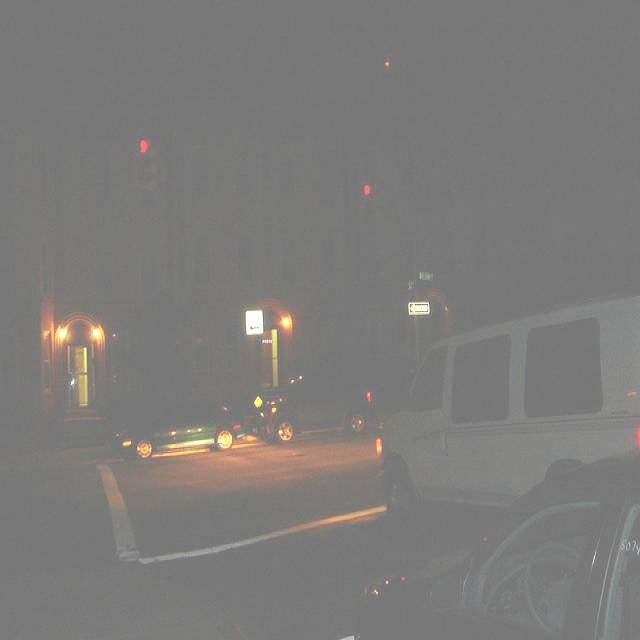Car: (380, 295, 640, 530)
